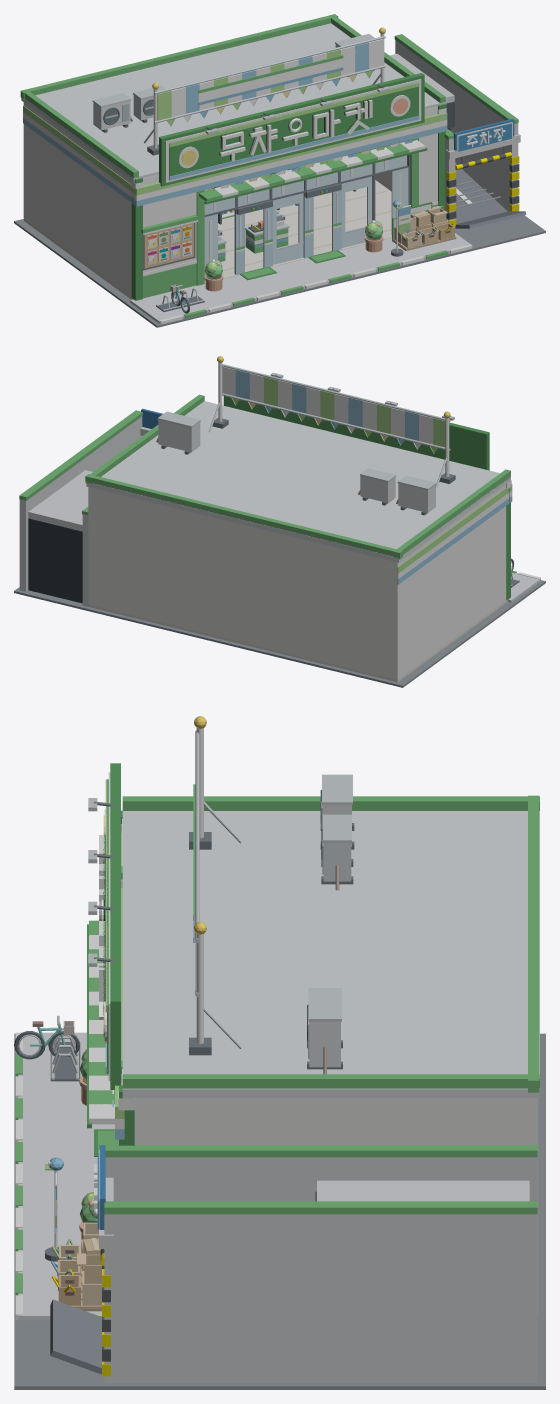
File: mucha.glb
3 renders of one model, top to bottom at view 1: azimuth 30°, elevation 25°; view 2: azimuth 150°, elevation 25°; view 3: azimuth 270°, elevation 25°, orthographic. The views are drawn at different scales.
Parts seen in each view (by area): view 1: geometry_0, geometry_27, geometry_52, geometry_64, geometry_17, geometry_31, geometry_47, geometry_41, geometry_49, geometry_33, geometry_59, geometry_56 (+14 smaller); view 2: geometry_0, geometry_27, geometry_52, geometry_64, geometry_69, geometry_17, geometry_49, geometry_33, geometry_41, geometry_47, geometry_59; view 3: geometry_27, geometry_52, geometry_0, geometry_49, geometry_33, geometry_64, geometry_56, geometry_59, geometry_17, geometry_41, geometry_23, geometry_29 (+1 smaller).
Part boxes in pixels (bbox=[...]): geometry_0: bbox=[23, 34, 512, 324]; geometry_27: bbox=[21, 23, 520, 323]; geometry_52: bbox=[20, 14, 518, 318]; geometry_64: bbox=[131, 73, 445, 300]; geometry_17: bbox=[24, 44, 394, 299]; geometry_31: bbox=[182, 155, 408, 281]; geometry_47: bbox=[23, 42, 447, 206]; geometry_41: bbox=[23, 49, 447, 195]; geometry_49: bbox=[14, 211, 545, 327]; geometry_33: bbox=[92, 34, 390, 311]; geometry_59: bbox=[101, 70, 504, 311]; geometry_56: bbox=[455, 163, 526, 228]; geometry_0: bbox=[88, 362, 540, 679]; geometry_27: bbox=[19, 401, 540, 606]; geometry_52: bbox=[19, 394, 516, 573]; geometry_64: bbox=[223, 396, 510, 600]; geometry_69: bbox=[28, 518, 82, 603]; geometry_17: bbox=[89, 420, 507, 682]; geometry_49: bbox=[14, 580, 545, 687]; geometry_33: bbox=[157, 364, 519, 586]; geometry_41: bbox=[231, 376, 512, 573]; geometry_47: bbox=[235, 370, 512, 584]; geometry_59: bbox=[161, 374, 519, 587]; geometry_27: bbox=[18, 811, 539, 1382]; geometry_52: bbox=[15, 784, 539, 1295]; geometry_0: bbox=[15, 728, 538, 1319]; geometry_49: bbox=[14, 1033, 545, 1389]; geometry_33: bbox=[18, 730, 352, 1079]; geometry_64: bbox=[87, 763, 134, 1156]; geometry_56: bbox=[50, 1299, 101, 1374]; geometry_59: bbox=[45, 801, 354, 1261]; geometry_17: bbox=[309, 805, 351, 1067]; geometry_41: bbox=[105, 779, 124, 1118]; geometry_23: bbox=[59, 1222, 101, 1305]; geometry_29: bbox=[58, 1238, 101, 1290].
Bounding box in the file's own units: 20.4 × 9.84 × 13.01.
